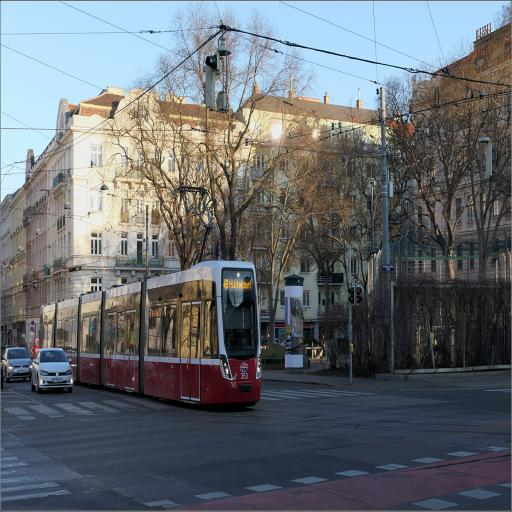Flexity: (39, 260, 263, 404)
